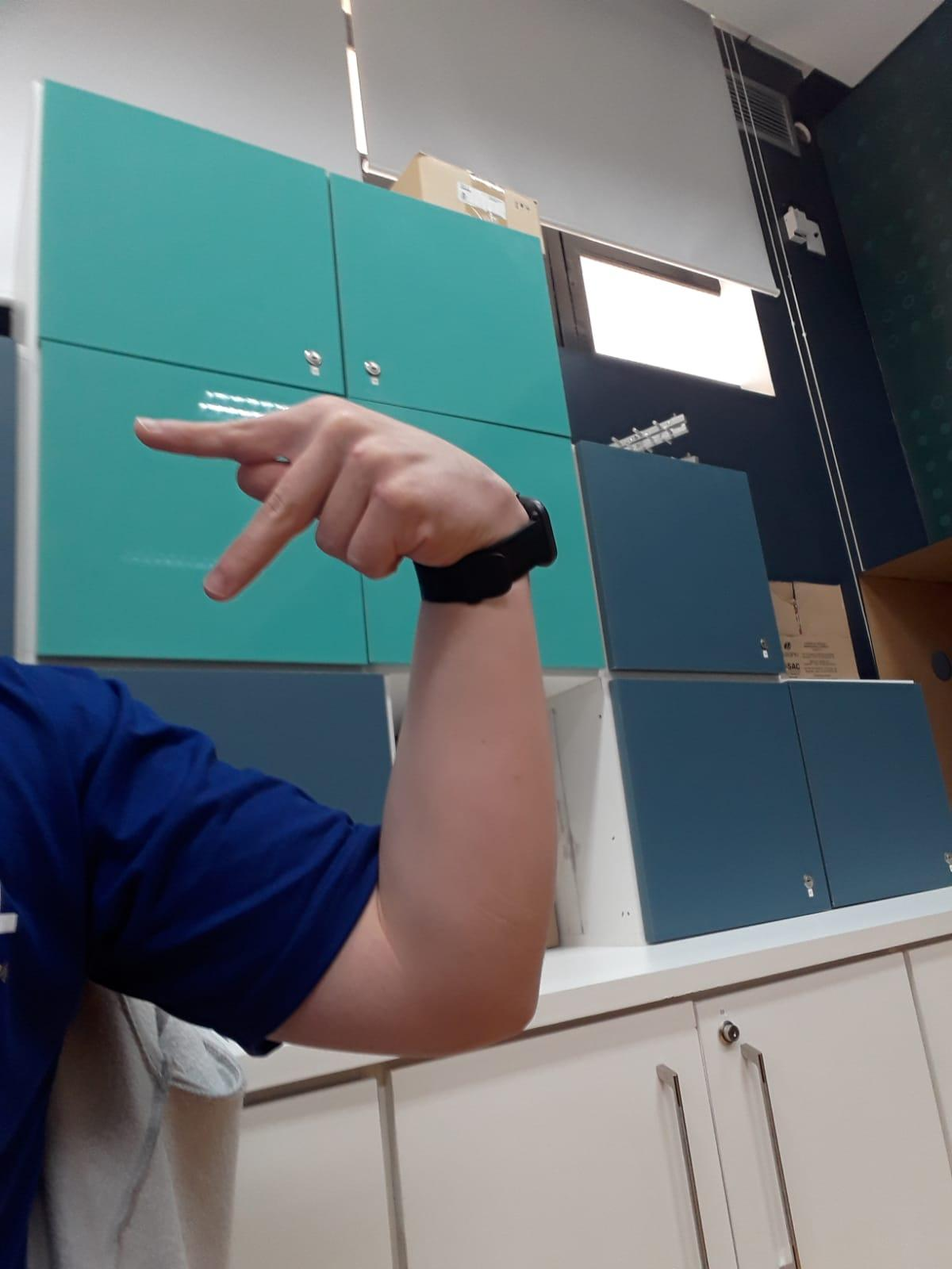P: (111, 357, 615, 650)
